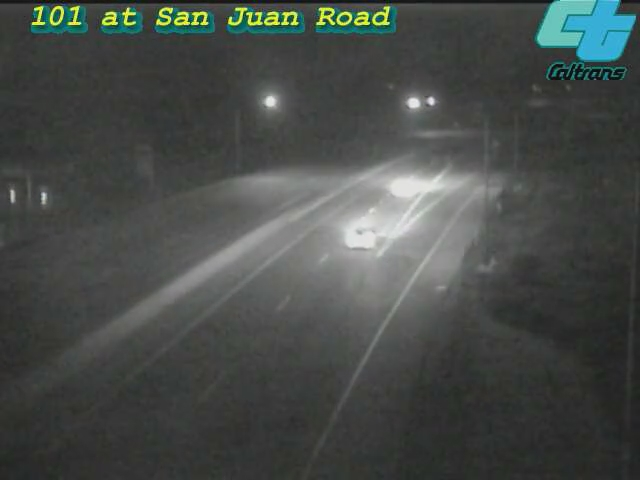vehicle: (367, 146, 447, 226), (321, 198, 401, 278)
